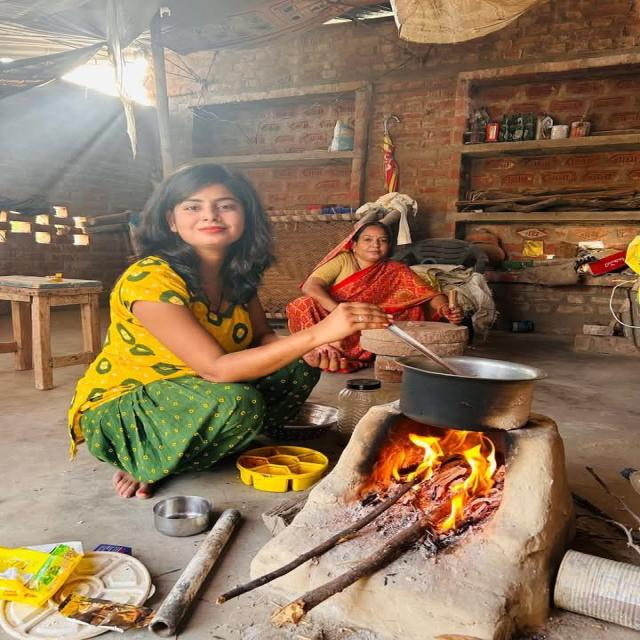fire: (375, 430, 496, 533)
